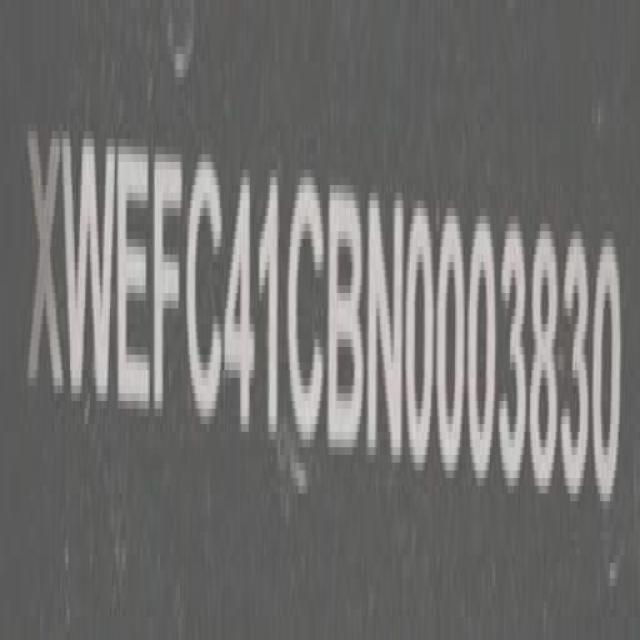0: (594, 227, 626, 510), (466, 201, 497, 490), (408, 186, 438, 479), (436, 191, 466, 482)
1: (260, 153, 284, 448)
3: (562, 227, 592, 508), (501, 206, 530, 491)
4: (223, 149, 258, 450)
8: (530, 215, 560, 496)
B: (330, 169, 368, 465)
C: (288, 160, 328, 454), (186, 144, 223, 442)
E: (118, 128, 155, 433)
F: (147, 151, 185, 417)
N: (364, 194, 407, 472)
W: (64, 112, 119, 425)
X: (28, 107, 68, 424)
